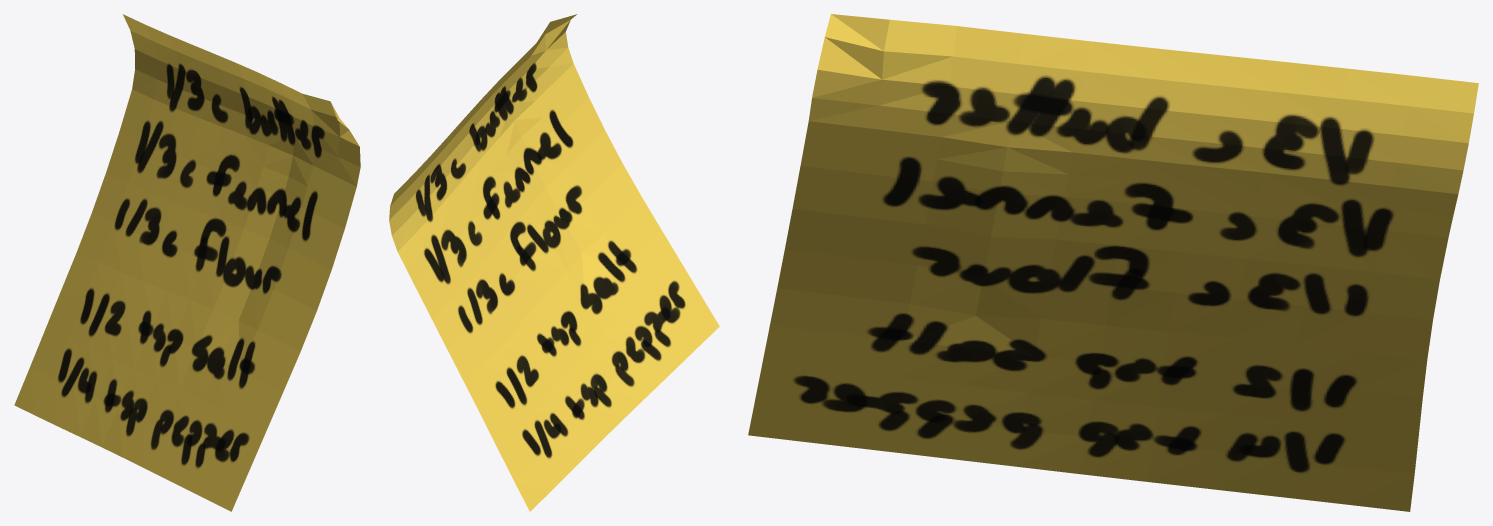
The model's file is SM_StickyNotes_06.fbx.
3 views of the same model, side by side, from view 1: azimuth 30°, elevation 25°; view 2: azimuth 150°, elevation 25°; view 3: azimuth 270°, elevation 25° (orthographic). The views are drawn at different scales.
Visible parts, largest first — view 1: SM_StickyNotes_06_LOD0; view 2: SM_StickyNotes_06_LOD0; view 3: SM_StickyNotes_06_LOD0.
Part boxes in pixels (left/top/right/bottom): SM_StickyNotes_06_LOD0: left=14, top=14, right=360, bottom=511; SM_StickyNotes_06_LOD0: left=389, top=14, right=719, bottom=511; SM_StickyNotes_06_LOD0: left=748, top=14, right=1478, bottom=511.
Bounding box in the file's own units: 4.6 × 12.33 × 11.21.
1 material, 1 textured.
